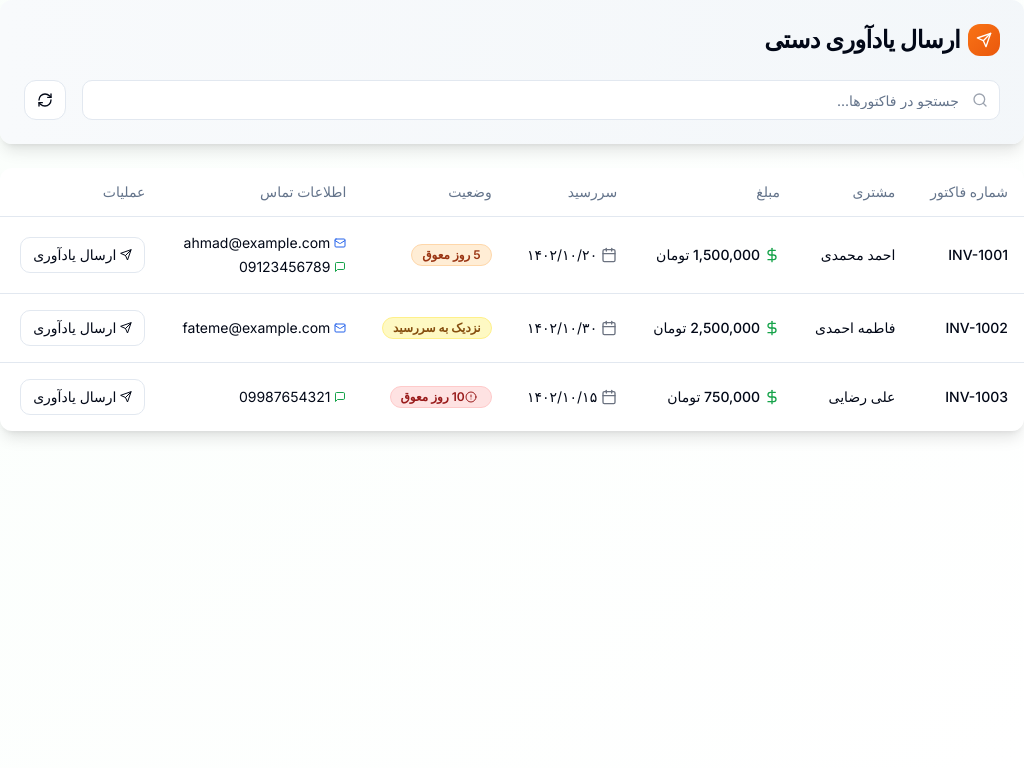
Test case: ManualReminder › closes dialog when cancel button is clicked
Expected: the text "INV-1001" is shown, [948,246,1008,262]
Click the button "ارسال یادآوری" in the row of "INV-1001" at x=83, y=254, box [20,236,145,272]
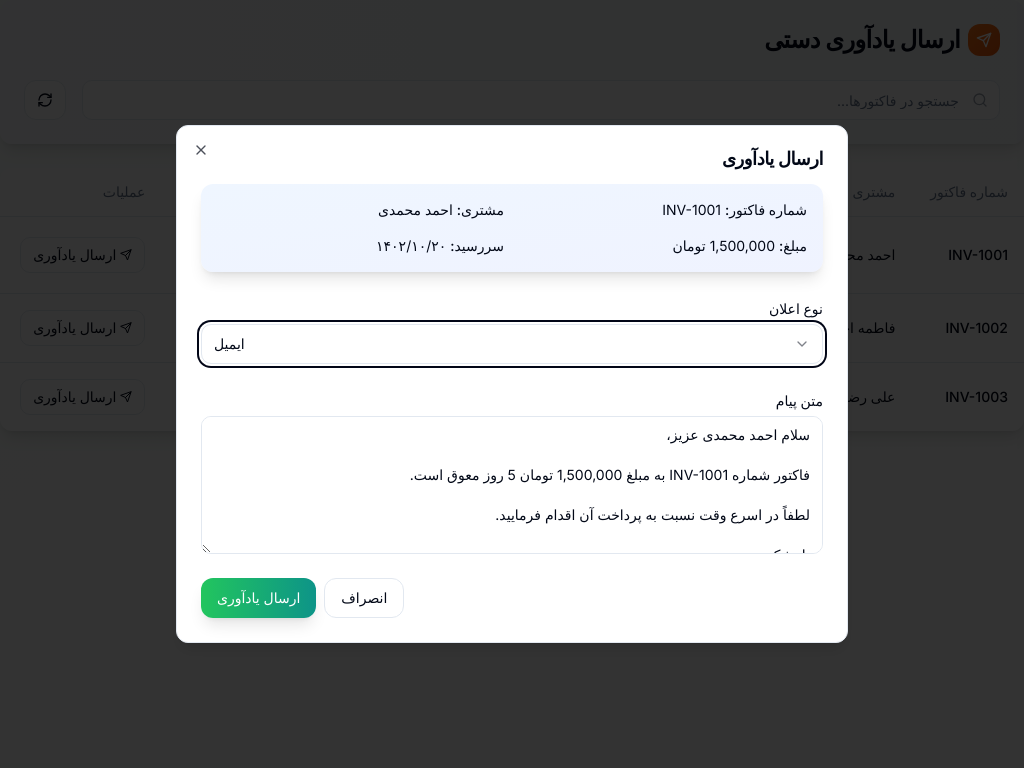
Expected: the button "انصراف" is shown
Click the button "انصراف" at x=364, y=598, box [324,578,404,618]
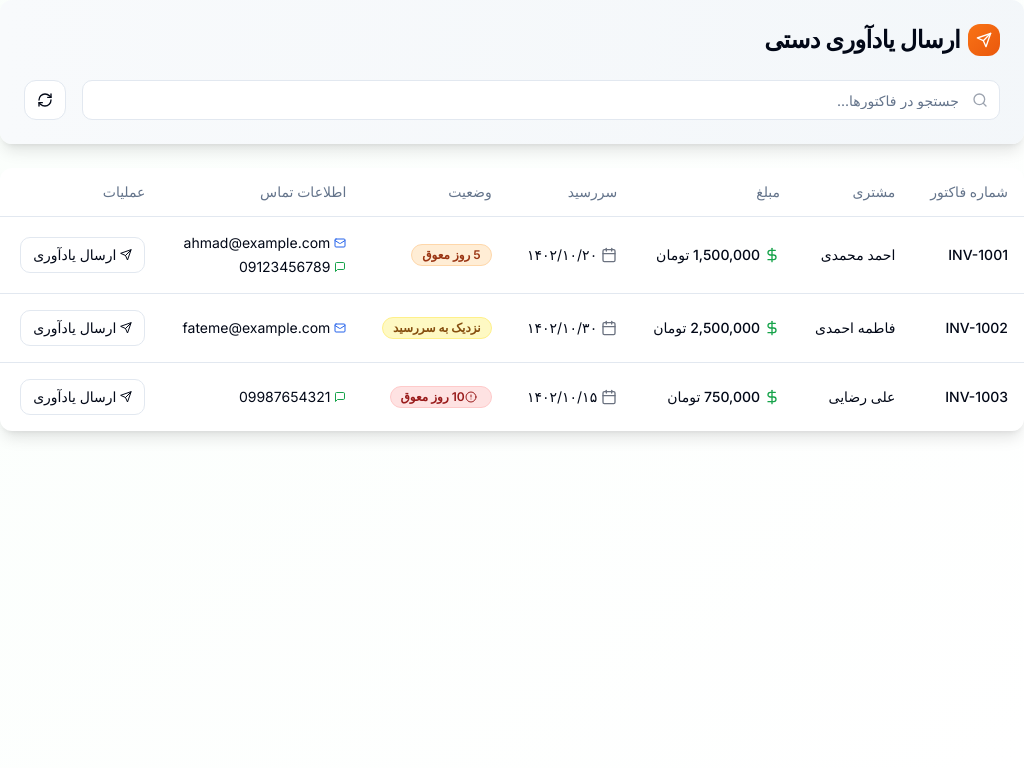
Expected: the text "شماره فاکتور:" is gone
